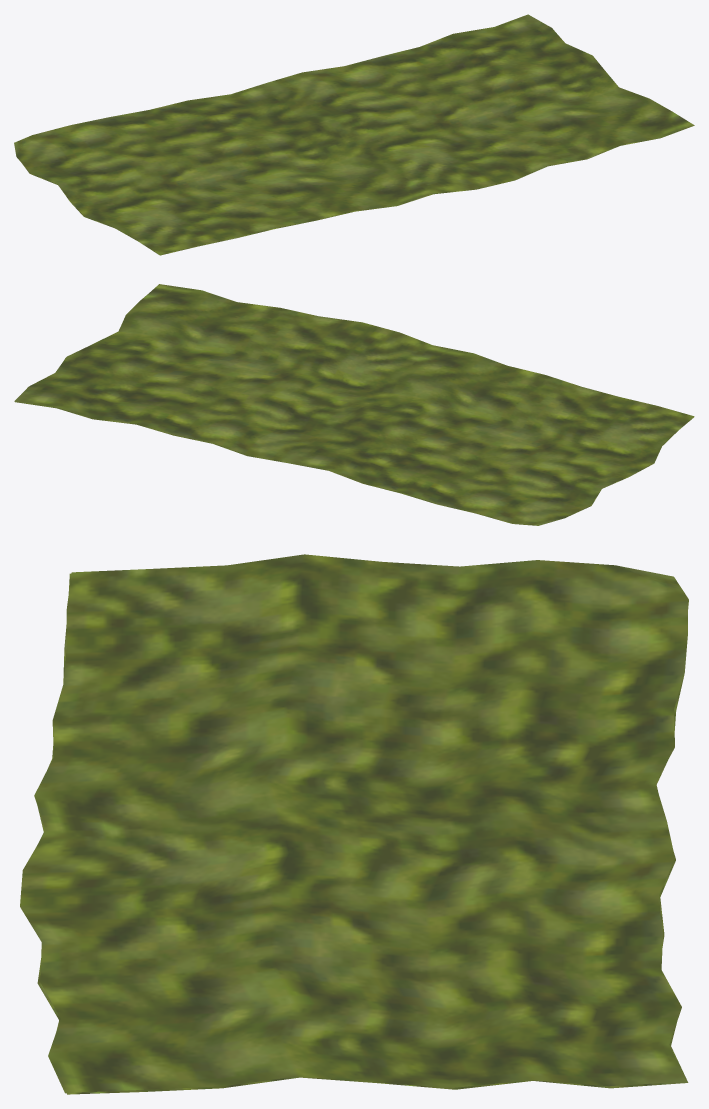
File: MIRKWOOD_PLANE57.fbx
3 views of the same model, one above another, from view 1: azimuth 30°, elevation 25°; view 2: azimuth 150°, elevation 25°; view 3: azimuth 270°, elevation 25° (orthographic). The views are drawn at different scales.
Parts seen in each view (by area): view 1: MIRKWOOD_PLANE57; view 2: MIRKWOOD_PLANE57; view 3: MIRKWOOD_PLANE57.
Boxes of the visible parts, x1,y1,x2,y2 form: MIRKWOOD_PLANE57: [14, 14, 694, 255]; MIRKWOOD_PLANE57: [14, 284, 694, 525]; MIRKWOOD_PLANE57: [20, 554, 688, 1094].
Size of the model in its own units: 201300 by 849 by 105724.
2 materials, 2 textured.
